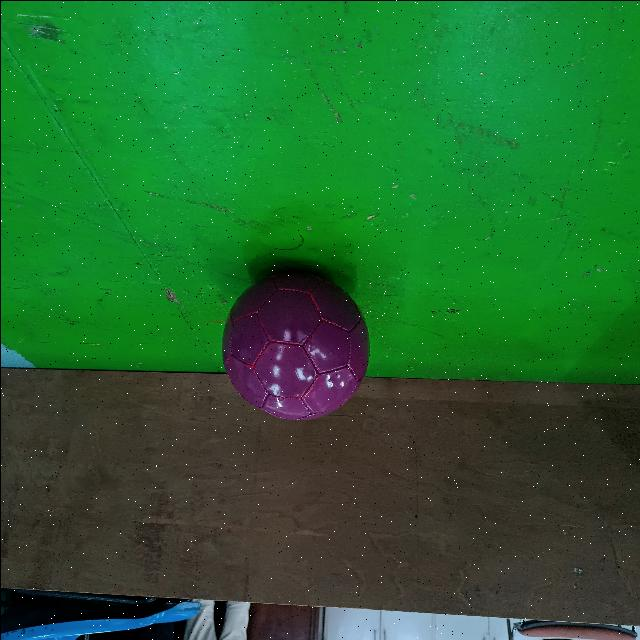P: (220, 263, 372, 423)
